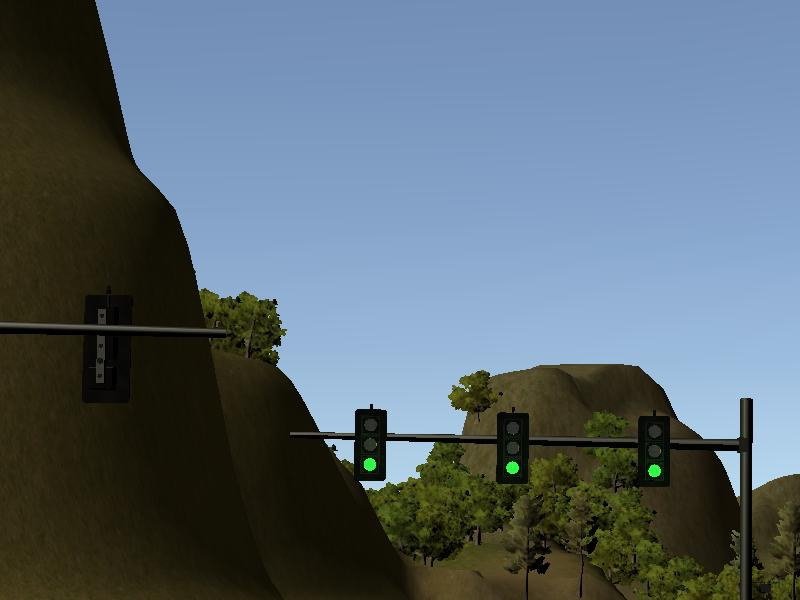Green: (355, 408, 386, 481), (497, 412, 528, 483), (638, 416, 668, 488)
